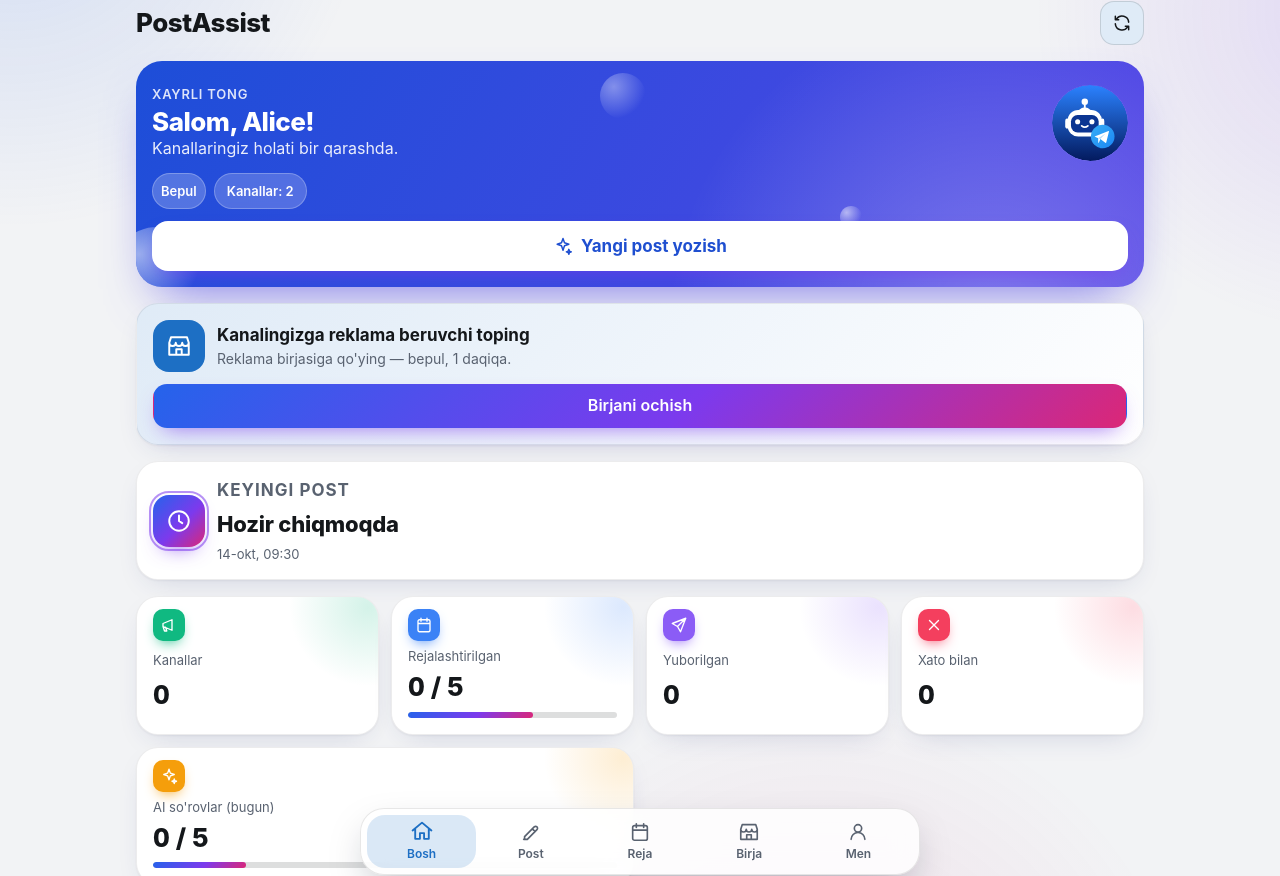
Test: Post yaratish › bo'sh matn va o'tmish vaqt: so'rov yuborilmaydi
Check: the heading "Salom, Alice!" is shown, box [152,106,314,137]
Click the button "Post".
click(531, 841)  # box [476,815,585,868]
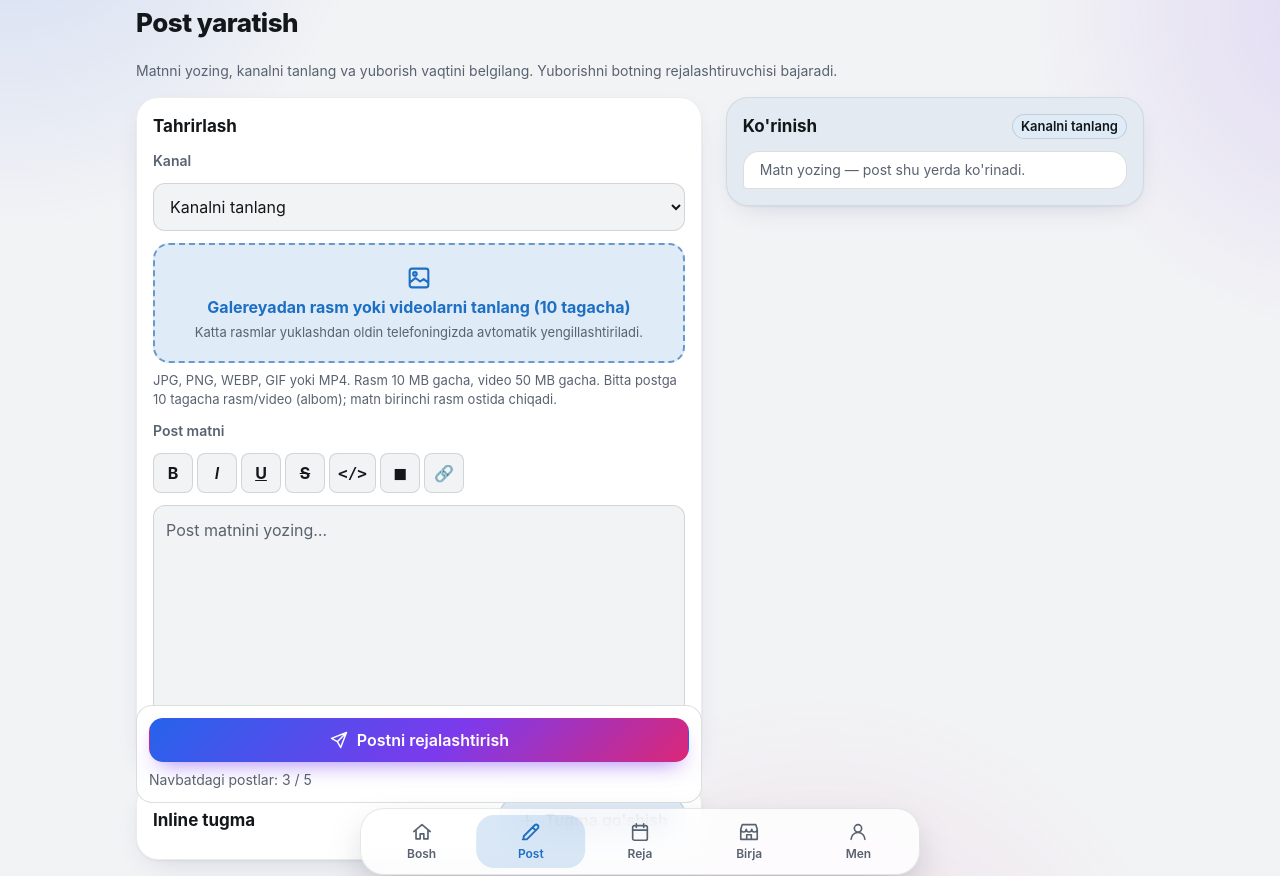
Select "Kanal A" in the dropdown labelled "Kanal" at [419, 207], box [153,183,685,231]
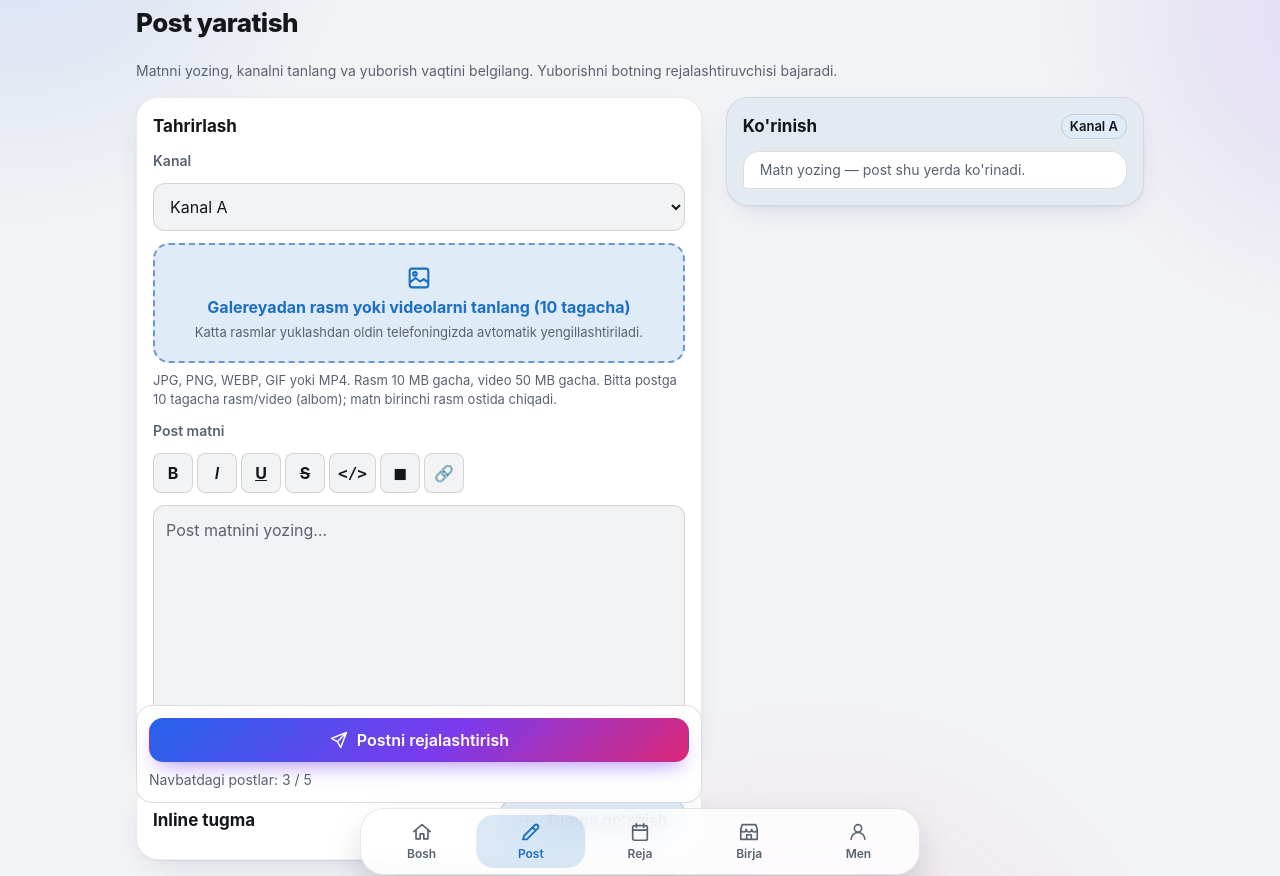
Click the button "Postni rejalashtirish".
click(419, 740)  # box [149,718,689,762]
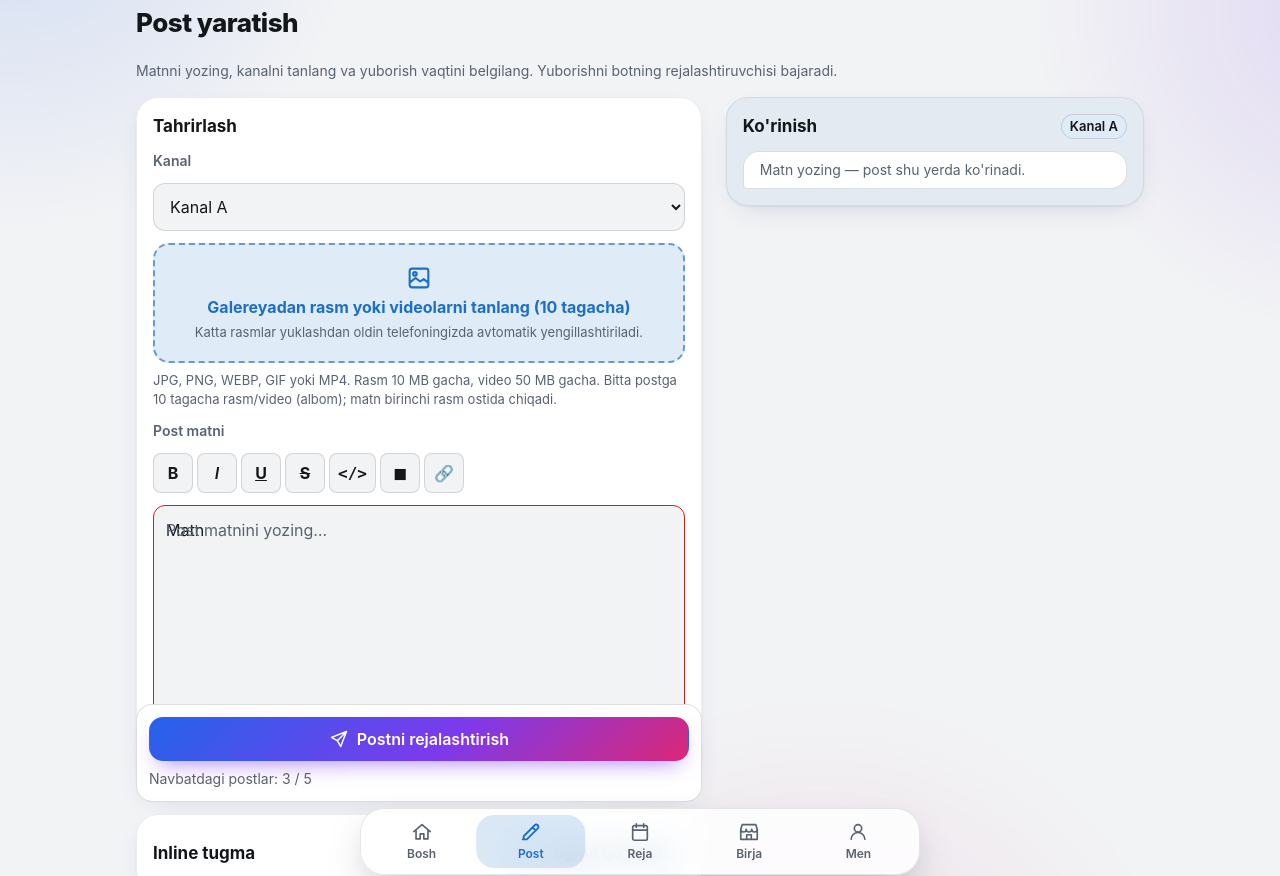
Check: the text "Matnni kiriting (1–4096 belgi)." is shown, box [153,762,349,779]
Clear the field named "Post matni" at [419, 611], box [153,505,685,716]
(page scrolled)
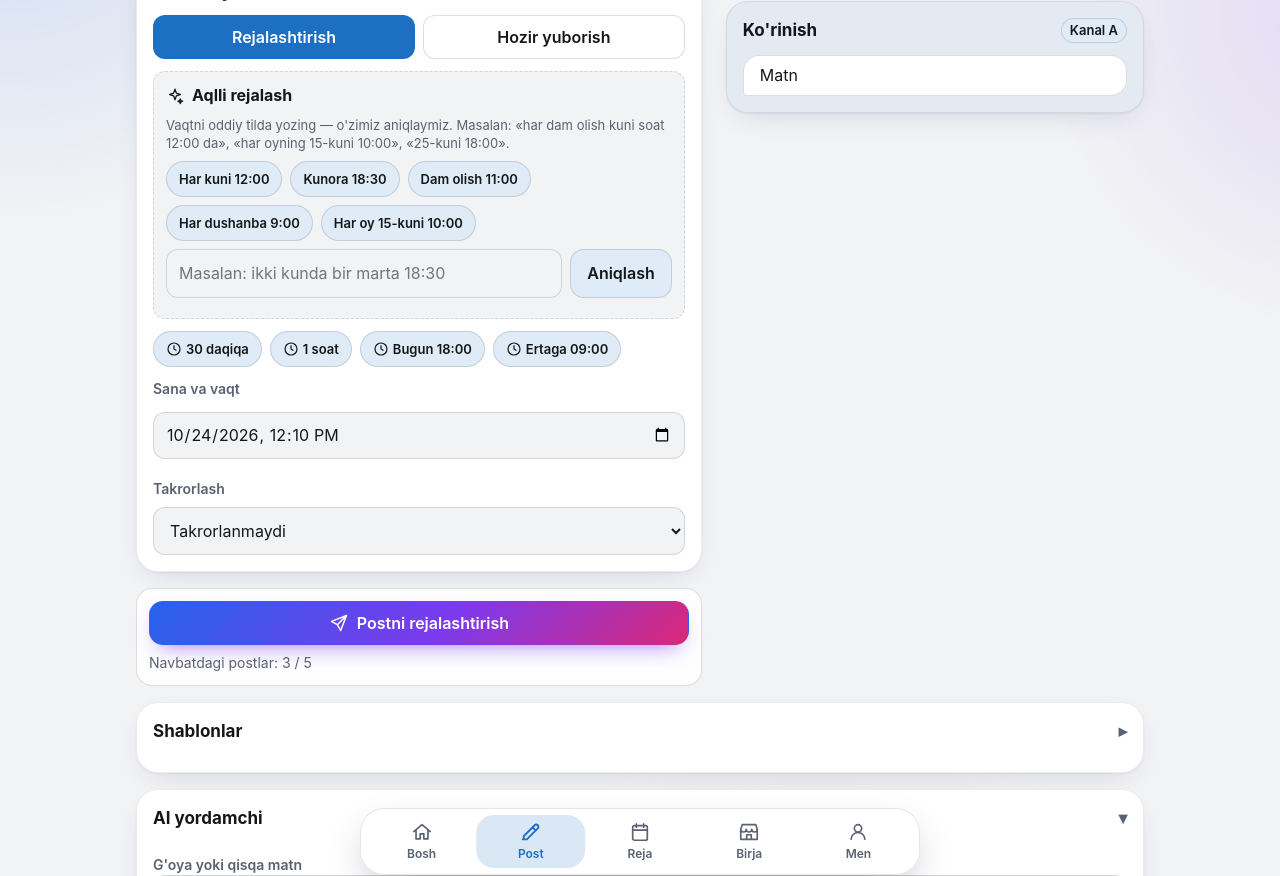
Replace the text in the field labelled "Sana va vaqt" with "2020-01-01T10:00" at [419, 435], box [153,412,685,459]
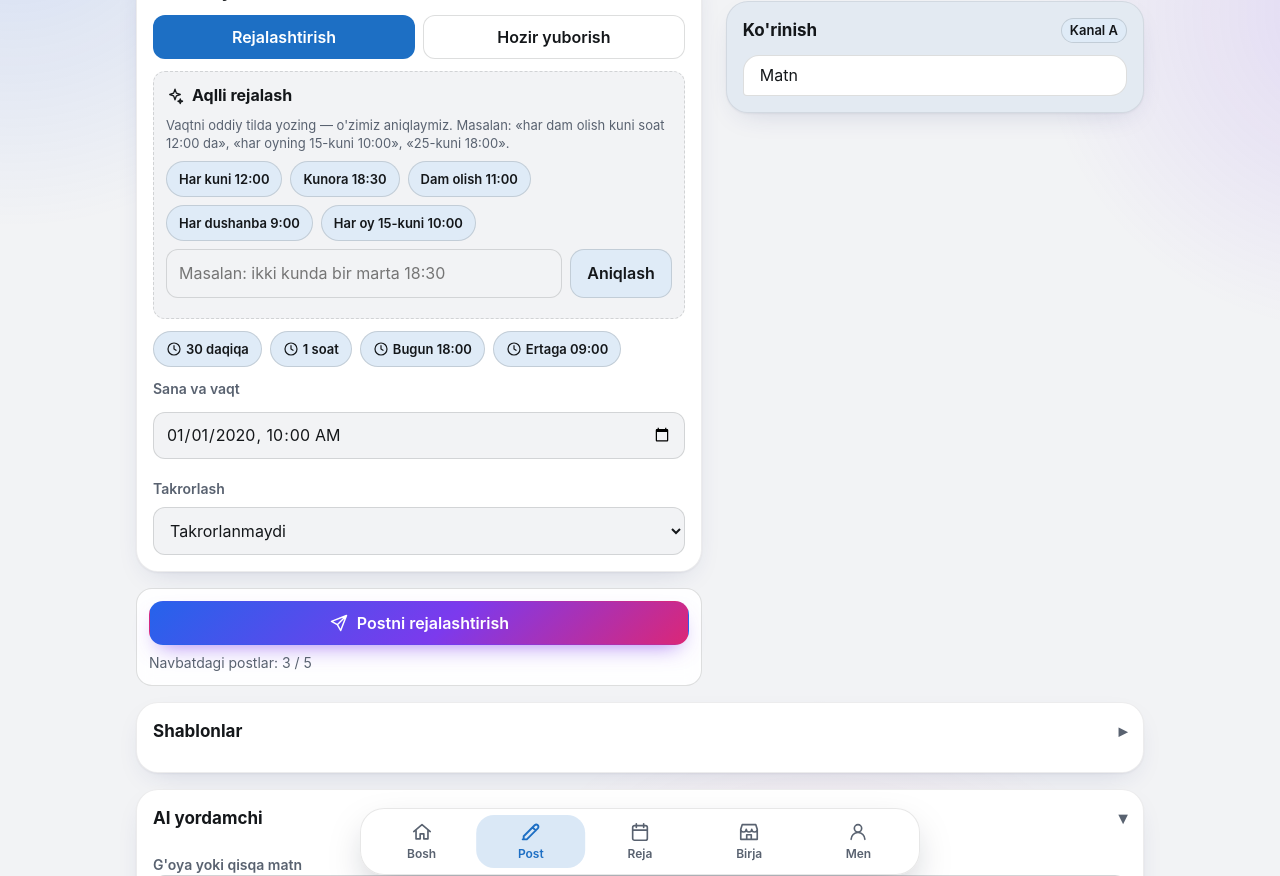
Click the button "Postni rejalashtirish".
click(419, 623)  # box [149,601,689,645]
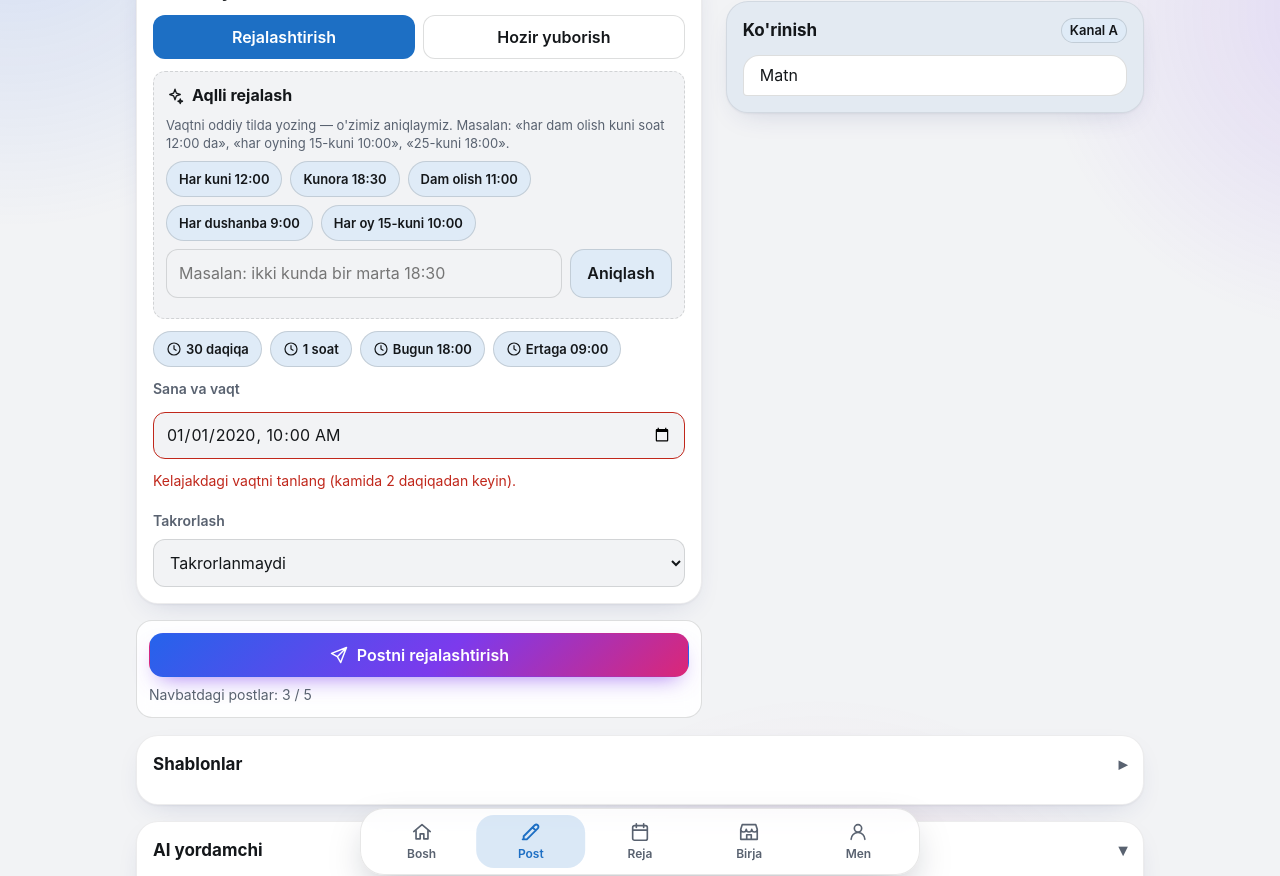
Check: the text "Kelajakdagi vaqtni tanlang (kamida 2 daqiqadan keyin)." is shown, box [153,472,516,489]
